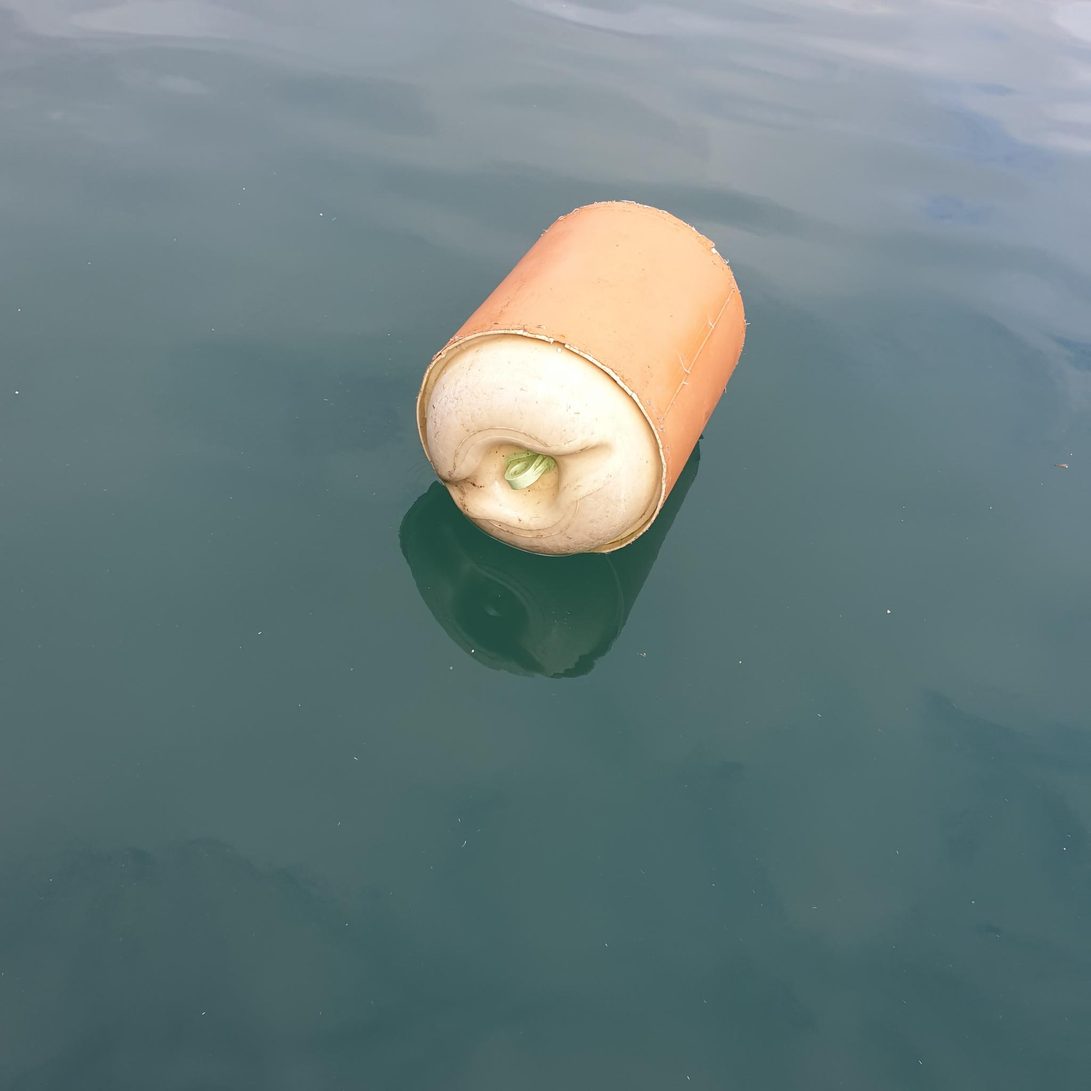sampah_terapung: (416, 201, 746, 557)
